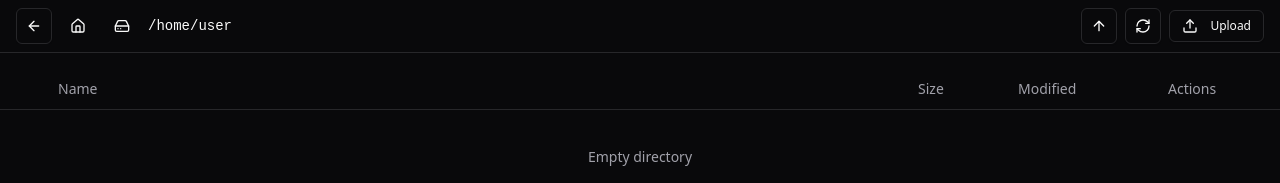
Scenario: FileList initial user directory › re-resolves Home from root and on repeated Home clicks
expect the link "/home/user" is shown: met, box x1=148 y1=16 x2=232 y2=36
Click the button named "My Computer".
click(122, 26)  # box x1=104 y1=8 x2=140 y2=44
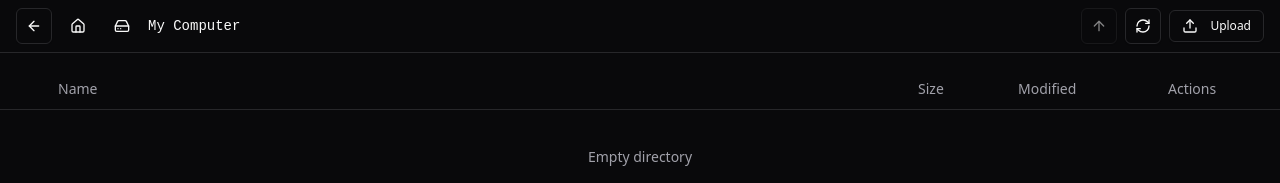
expect the button named "Refresh" is enabled: met, box x1=1125 y1=8 x2=1161 y2=44
Click the button named "User home".
click(78, 26)  # box x1=60 y1=8 x2=96 y2=44
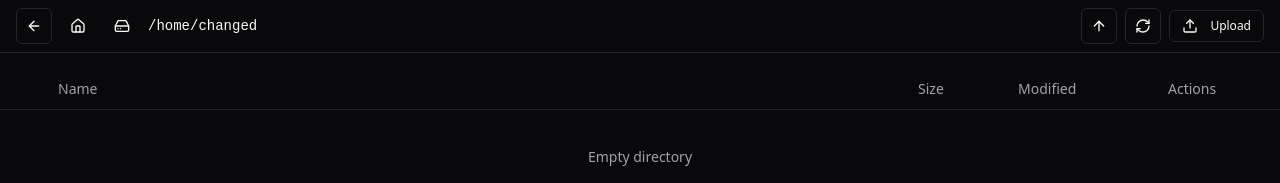
expect the link "/home/changed" is shown: met, box x1=148 y1=16 x2=257 y2=36
Click the button named "User home".
click(78, 26)  # box x1=60 y1=8 x2=96 y2=44
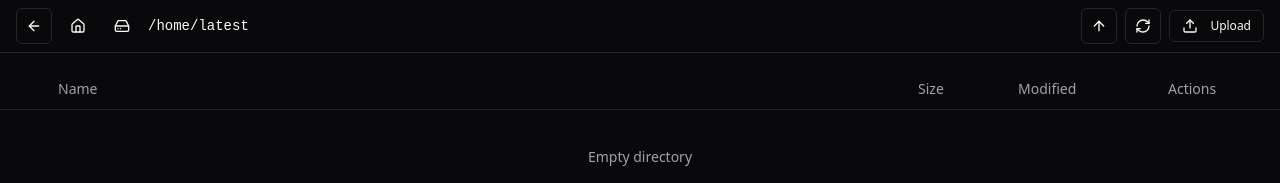
expect the link "/home/latest" is shown: met, box x1=148 y1=16 x2=249 y2=36
